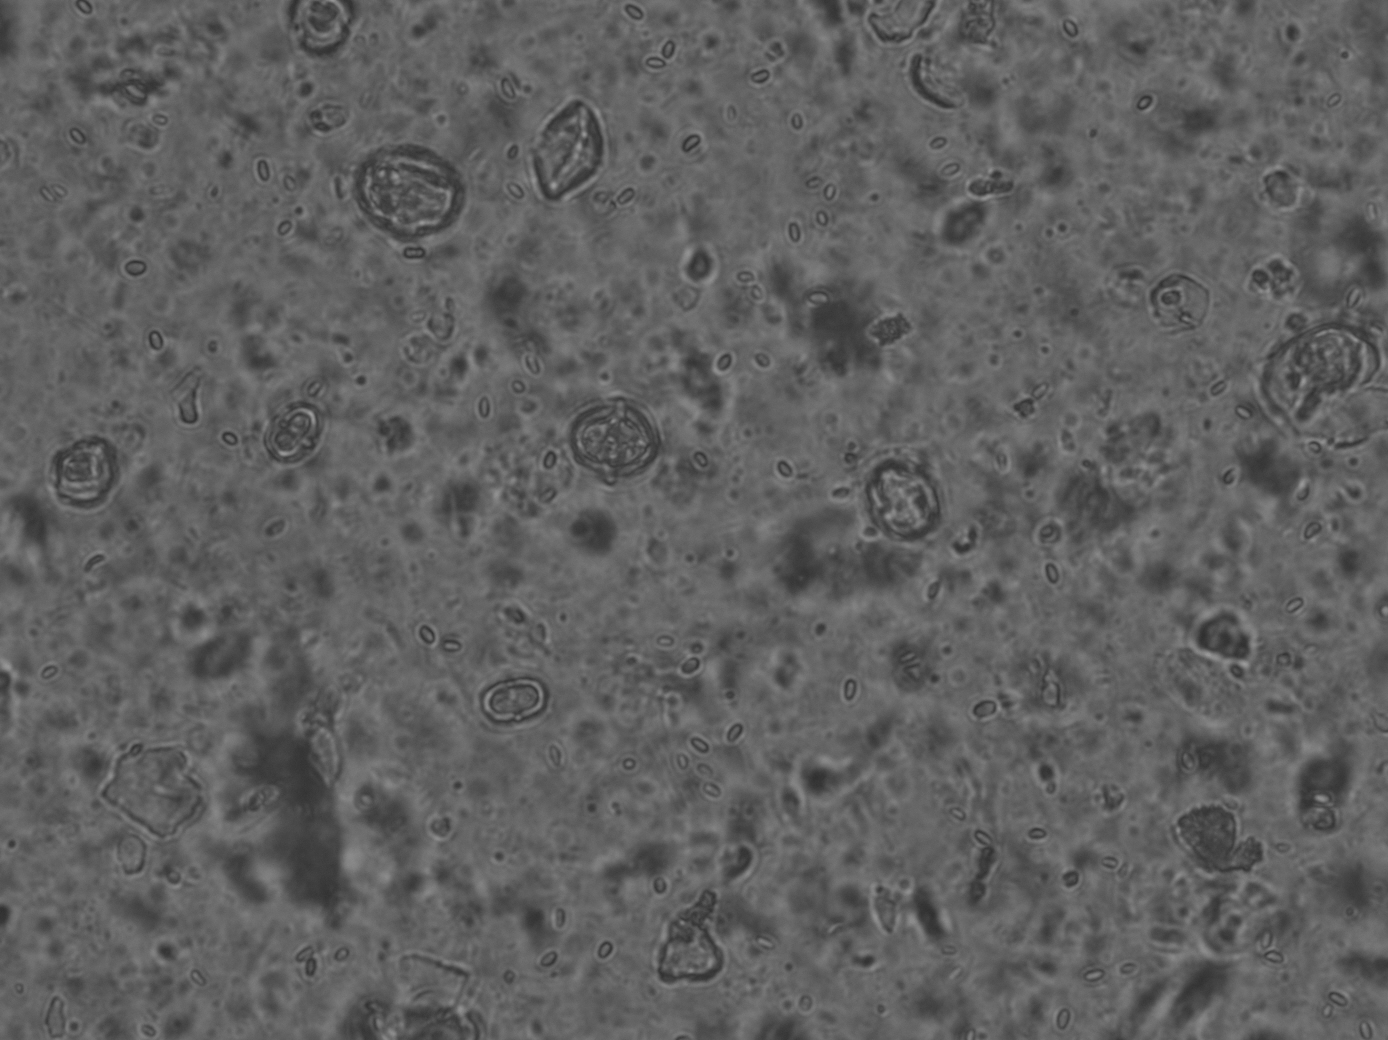spore: (684, 137, 698, 149), (277, 223, 290, 235), (598, 944, 612, 956), (43, 666, 55, 678), (1066, 24, 1078, 36), (728, 726, 742, 737), (544, 458, 557, 469), (779, 466, 792, 477), (622, 760, 636, 771), (1139, 102, 1154, 110), (224, 433, 236, 444), (825, 188, 837, 199), (149, 335, 159, 347), (1328, 94, 1340, 105), (693, 458, 705, 469), (655, 883, 667, 894), (693, 744, 708, 753), (651, 58, 662, 69), (816, 214, 827, 225), (625, 7, 636, 17), (788, 233, 800, 243), (1031, 830, 1043, 840), (849, 683, 858, 695), (689, 137, 701, 146), (547, 953, 557, 965), (754, 69, 767, 78), (512, 381, 523, 391), (937, 138, 947, 149), (843, 683, 853, 694), (284, 224, 295, 234), (666, 43, 676, 54), (928, 138, 939, 147), (417, 631, 428, 641), (122, 267, 133, 276), (846, 692, 858, 700), (135, 268, 147, 276), (727, 734, 739, 743), (655, 58, 667, 67), (665, 50, 677, 59), (1308, 441, 1320, 450), (407, 249, 417, 259), (425, 633, 435, 642), (130, 268, 141, 276), (259, 173, 270, 181), (1083, 970, 1094, 979), (1057, 1021, 1068, 1030), (1048, 574, 1059, 582), (130, 744, 141, 753), (1213, 388, 1224, 397), (1102, 859, 1113, 867), (719, 364, 731, 371), (693, 737, 703, 746), (312, 381, 322, 390), (626, 189, 634, 199), (755, 76, 766, 84), (685, 145, 696, 153), (597, 952, 608, 959), (1224, 476, 1235, 484), (311, 389, 322, 397), (1266, 954, 1277, 961), (902, 651, 913, 659), (1094, 970, 1103, 979), (644, 59, 653, 68), (624, 198, 633, 205), (443, 642, 453, 650), (1137, 104, 1148, 110), (182, 417, 193, 424), (616, 199, 625, 206), (843, 694, 852, 701), (1380, 606, 1388, 615), (296, 415, 305, 423), (1285, 607, 1295, 614), (1292, 607, 1302, 614), (981, 712, 990, 719), (677, 757, 687, 764), (295, 956, 306, 961), (1304, 531, 1312, 539), (538, 961, 547, 968), (660, 55, 669, 60), (971, 713, 981, 719)
